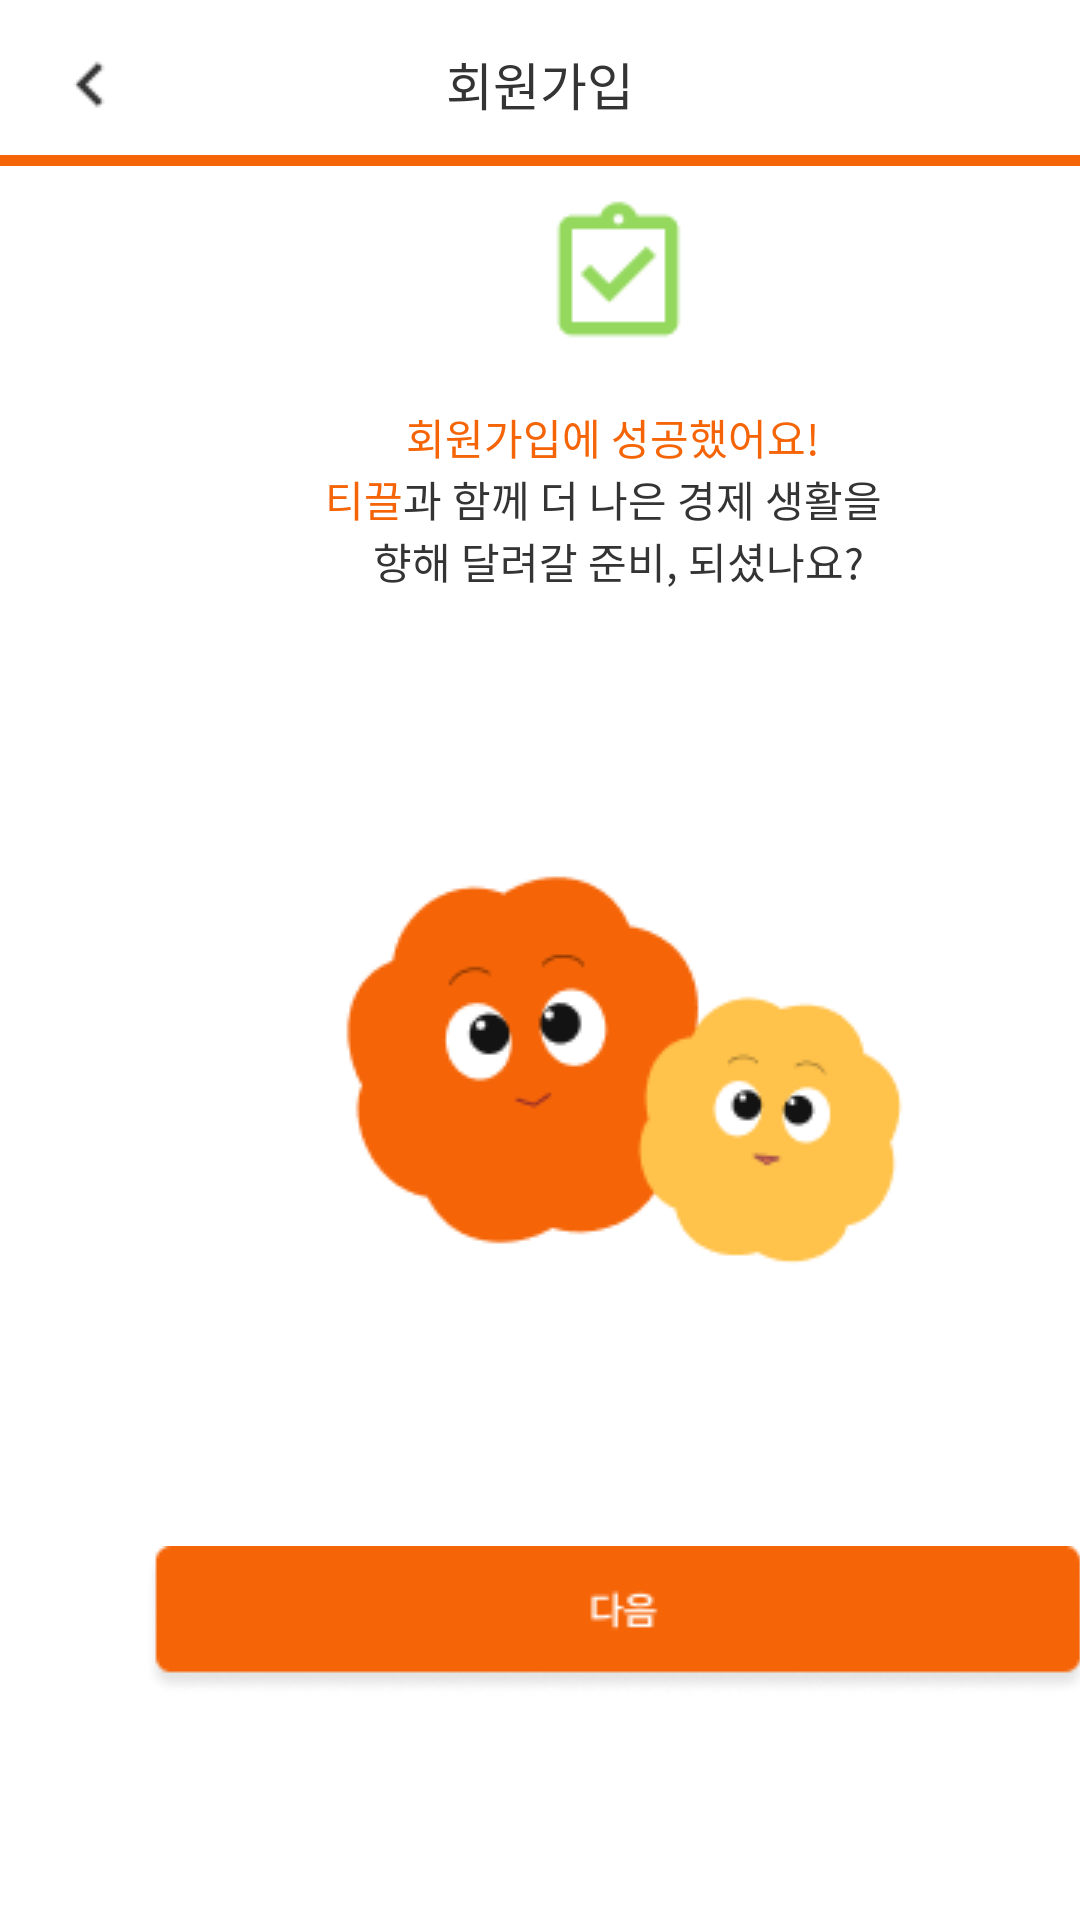

Point at icon controls on the screen. Image size 1080×1920, points as point (x, y).
back: point (89, 84)
check signup: point (618, 269)
